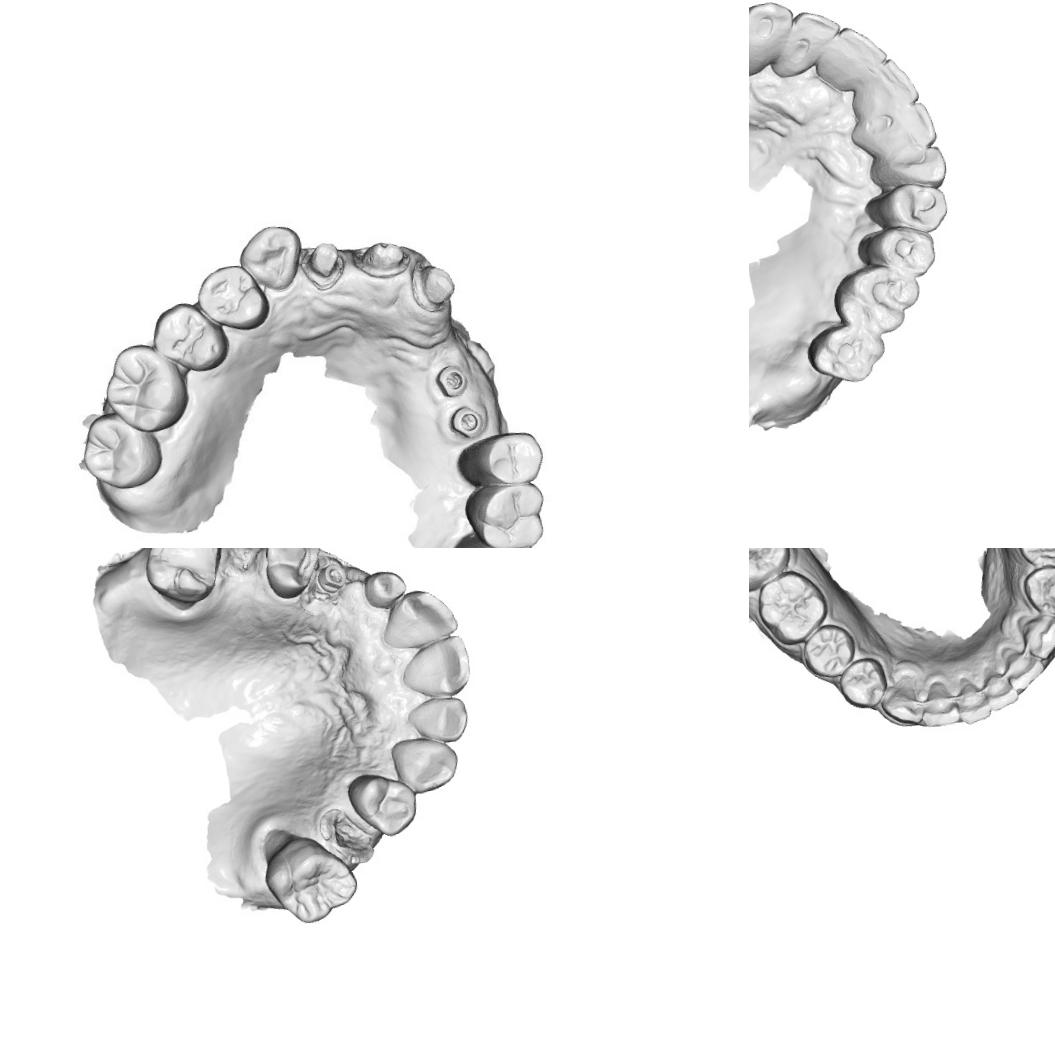canine: (236, 222, 305, 296), (387, 732, 460, 796), (866, 140, 951, 194), (749, 0, 796, 78), (876, 671, 922, 730), (1015, 609, 1055, 663)
crown: (408, 260, 460, 314), (360, 237, 414, 282), (304, 239, 349, 288)
implant: (448, 401, 488, 441), (433, 364, 469, 401), (316, 560, 350, 597)
incisor: (375, 585, 461, 651), (396, 632, 474, 700), (874, 100, 943, 160), (826, 21, 891, 79), (405, 694, 472, 746), (784, 5, 844, 60), (866, 55, 922, 109), (999, 642, 1048, 694), (918, 674, 960, 730), (359, 567, 410, 611), (952, 672, 992, 726), (980, 662, 1019, 713)
molar: (259, 830, 361, 928), (99, 339, 191, 436), (829, 259, 926, 338), (79, 407, 167, 493), (753, 565, 832, 648), (462, 479, 547, 548), (802, 320, 888, 388), (138, 548, 225, 608), (749, 548, 794, 595)
premolar: (148, 297, 230, 375), (195, 260, 272, 334), (344, 768, 420, 840), (874, 177, 950, 237), (865, 220, 938, 282), (469, 429, 547, 487), (800, 620, 858, 681), (260, 548, 324, 601), (836, 653, 888, 711), (1018, 563, 1055, 617), (1014, 548, 1055, 569)
